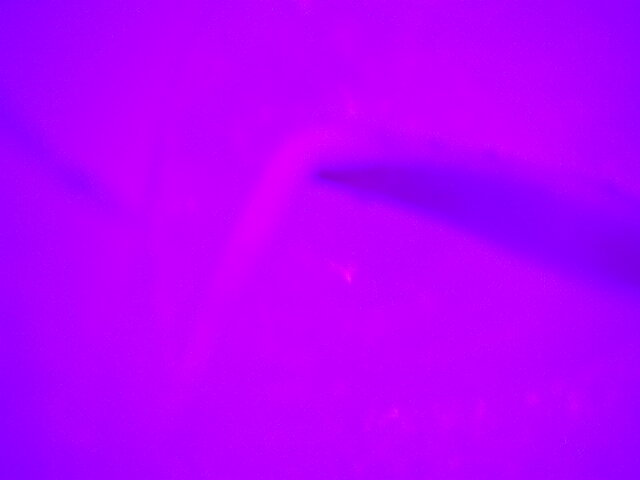sprout: (161, 99, 621, 409)
